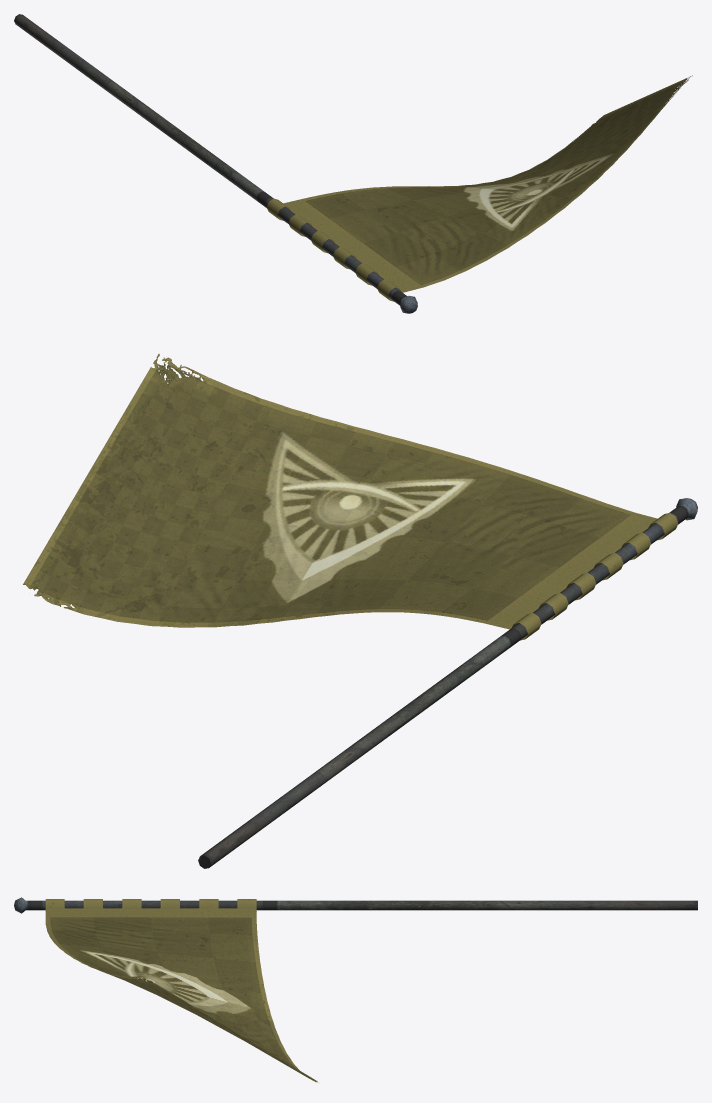
The model's file is mp_flag_axis_3_LOD0.obj.
The picture shows the model from 3 angles, top to bottom: view 1: azimuth 30°, elevation 25°; view 2: azimuth 150°, elevation 25°; view 3: azimuth 270°, elevation 25°; orthographic projection. The views are drawn at different scales.
Visible parts, largest first — view 1: mtl_flag_axis_3, mtl_mp_flag_base; view 2: mtl_flag_axis_3, mtl_mp_flag_base; view 3: mtl_flag_axis_3, mtl_mp_flag_base.
Boxes of the visible parts, x1,y1,x2,y2 form: mtl_flag_axis_3: [266, 75, 692, 301]; mtl_mp_flag_base: [14, 14, 417, 313]; mtl_flag_axis_3: [23, 354, 678, 640]; mtl_mp_flag_base: [198, 498, 697, 868]; mtl_flag_axis_3: [45, 899, 317, 1082]; mtl_mp_flag_base: [14, 897, 697, 913].
Bounding box in the file's own units: 116 × 44.12 × 212.
